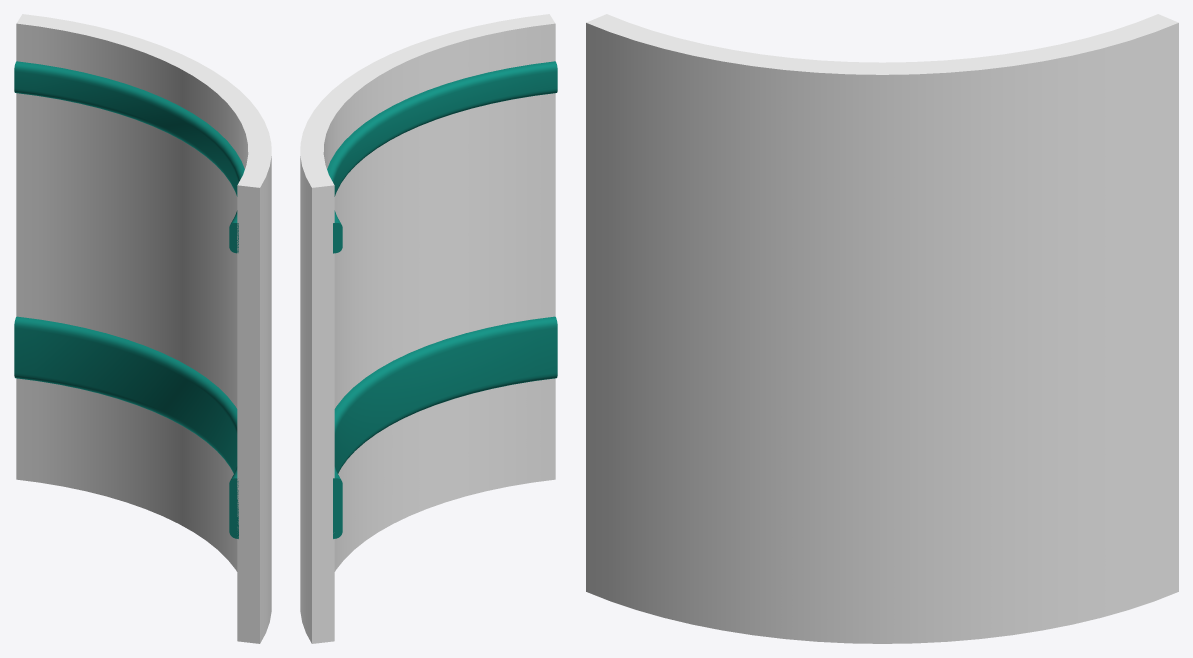
File: ParedCurva.fbx
3 views of the same model, side by side, from view 1: azimuth 30°, elevation 25°; view 2: azimuth 150°, elevation 25°; view 3: azimuth 270°, elevation 25° (orthographic). The views are drawn at different scales.
Parts seen in each view (by area): view 1: Box043, Box044, Box045; view 2: Box043, Box044, Box045; view 3: Box043.
Part boxes in pixels (x1,y1,x2,y2): Box043: [16, 14, 271, 643]; Box044: [14, 316, 238, 538]; Box045: [14, 61, 244, 253]; Box043: [300, 14, 555, 643]; Box044: [333, 316, 557, 538]; Box045: [327, 61, 557, 253]; Box043: [586, 14, 1178, 643].
Size of the model in its own units: 36.24 by 150 by 142.
2 materials, 2 textured.
